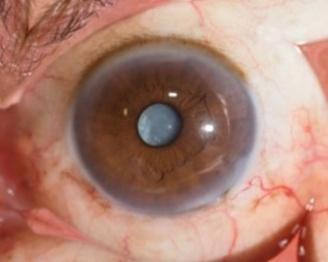eye: (67, 37, 259, 220)
